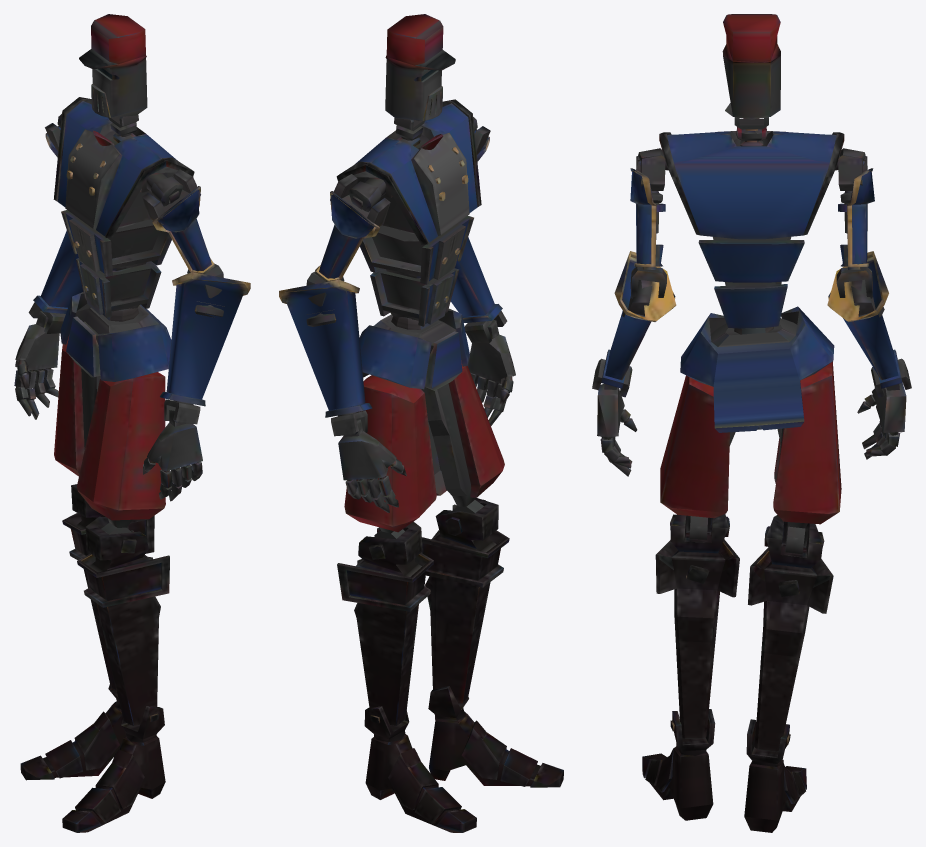
File: npc-ww1.glb
The picture shows the model from 3 angles, left to right: view 1: azimuth 30°, elevation 25°; view 2: azimuth 150°, elevation 25°; view 3: azimuth 270°, elevation 25°; orthographic projection. The views are drawn at different scales.
Visible parts, largest first — view 1: Object_566_baked; view 2: Object_566_baked; view 3: Object_566_baked.
Boxes of the visible parts, x1=… form: Object_566_baked: x1=14, y1=14, x2=250, y2=832; Object_566_baked: x1=279, y1=14, x2=563, y2=832; Object_566_baked: x1=592, y1=14, x2=911, y2=832.
Size of the model in its own units: 0.5104 by 2.13 by 0.7746.
Materials: 1 (1 with a texture image).
